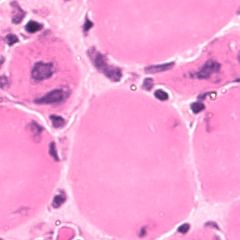New: (3, 33, 83, 107)
